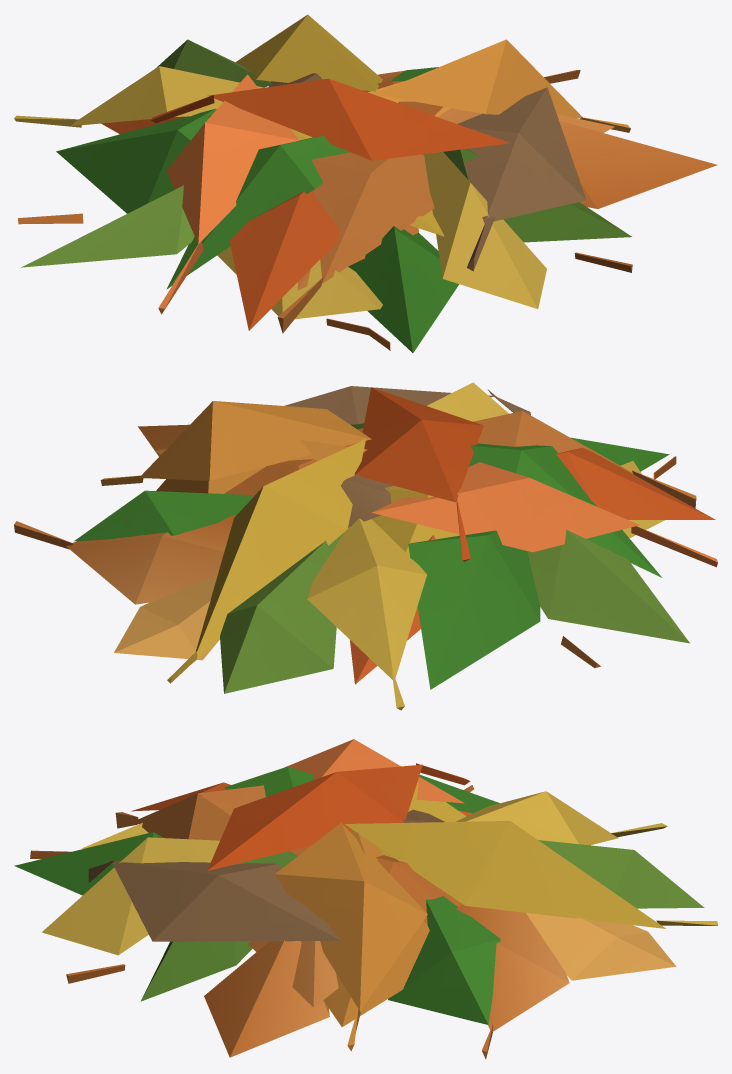
The model's file is Pile_Of_Leaves_01.fbx.
3 views of the same model, one above another, from view 1: azimuth 30°, elevation 25°; view 2: azimuth 150°, elevation 25°; view 3: azimuth 270°, elevation 25° (orthographic). The views are drawn at different scales.
Parts seen in each view (by area): view 1: Pile_Of_Leaves_01; view 2: Pile_Of_Leaves_01; view 3: Pile_Of_Leaves_01.
Part boxes in pixels (left/top/right/bottom): Pile_Of_Leaves_01: left=14, top=14, right=717, bottom=352; Pile_Of_Leaves_01: left=14, top=382, right=717, bottom=710; Pile_Of_Leaves_01: left=14, top=739, right=717, bottom=1059.
Bounding box in the file's own units: 2.3 × 0.52 × 2.3.
